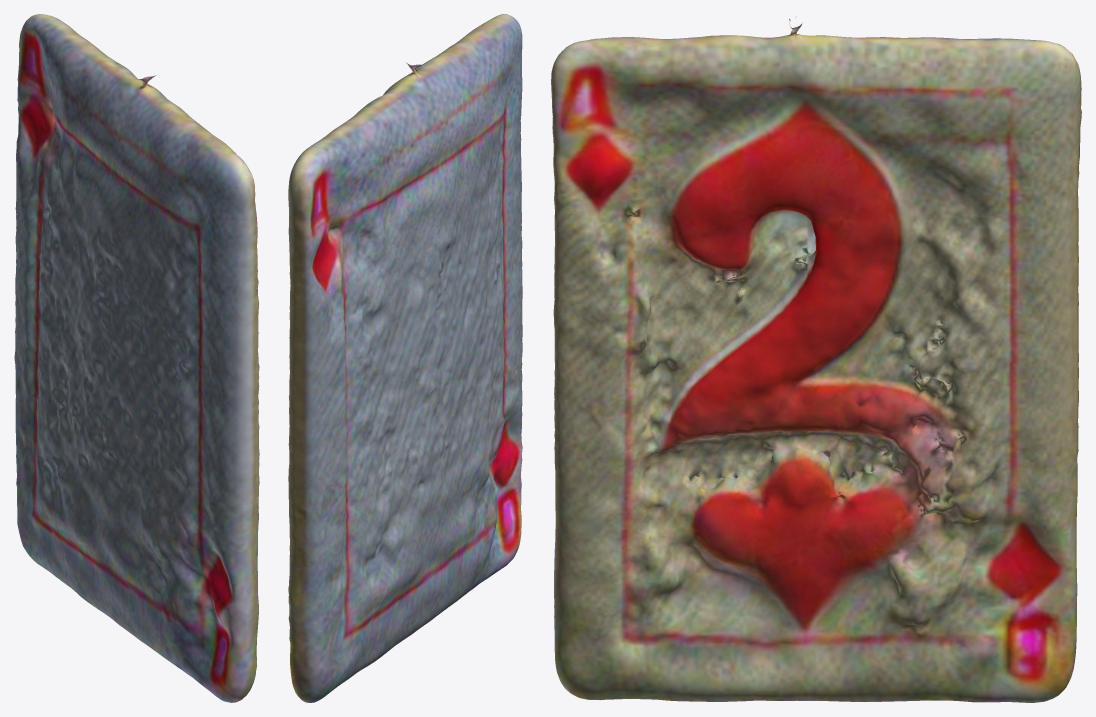
Rendered from card_11.glb.
3 views of the same model, side by side, from view 1: azimuth 30°, elevation 25°; view 2: azimuth 150°, elevation 25°; view 3: azimuth 270°, elevation 25° (orthographic). The views are drawn at different scales.
Visible parts, largest first — view 1: Mesh1; view 2: Mesh1; view 3: Mesh1.
Boxes of the visible parts, <box> form: Mesh1: <box>14,14,259,702</box>; Mesh1: <box>288,14,522,702</box>; Mesh1: <box>551,16,1081,702</box>.
Size of the model in its own units: 0.1519 by 1.2 by 0.8495.
Materials: 1 (1 with a texture image).
